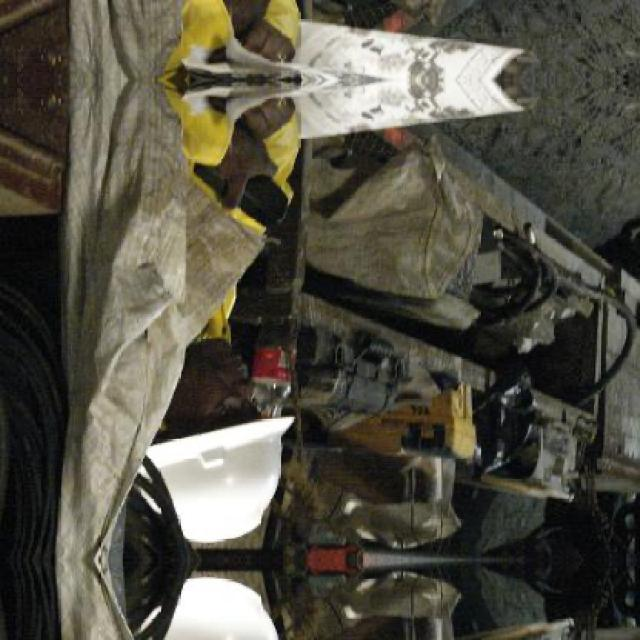con casco: (124, 297, 344, 537)
